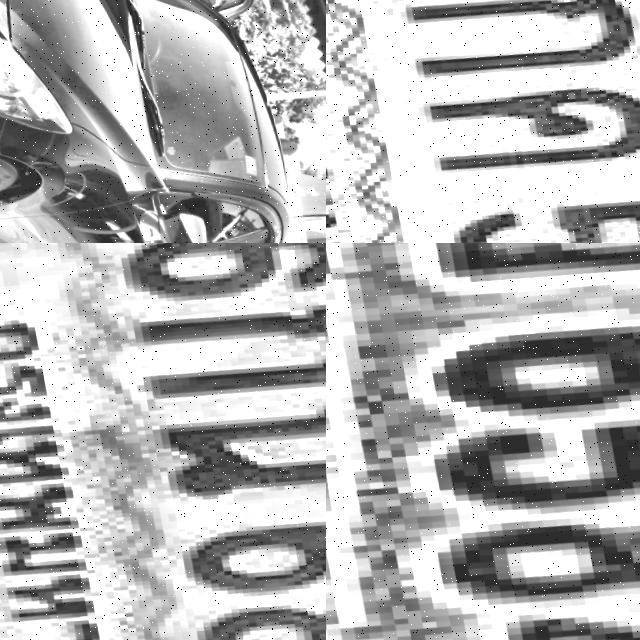license-plate: (0, 243, 326, 640), (326, 243, 640, 640), (326, 0, 640, 243)
